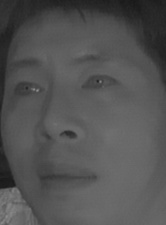eye: (79, 72, 120, 98), (11, 79, 47, 101)
mouth: (34, 158, 98, 196)
